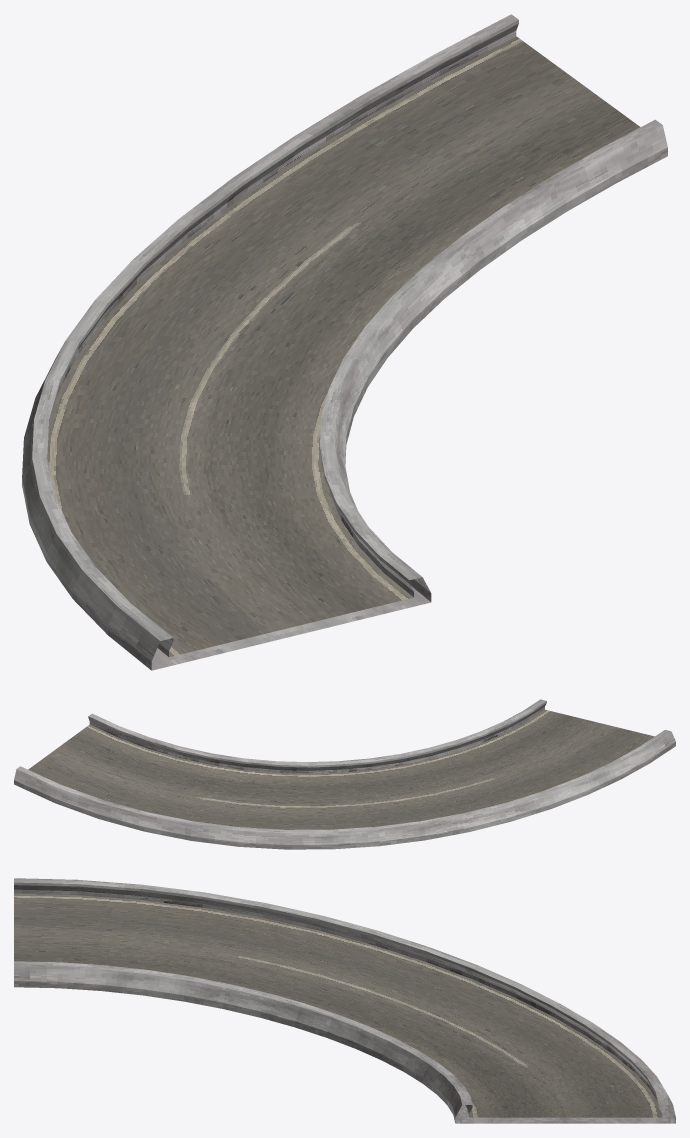
The model's file is turn-right3x3.glb.
3 renders of one model, top to bottom at view 1: azimuth 30°, elevation 25°; view 2: azimuth 150°, elevation 25°; view 3: azimuth 270°, elevation 25°, orthographic. The views are drawn at different scales.
Parts seen in each view (by area): view 1: road-Turn-Flat-BiSlopeUp-Up1-Right-Size3; view 2: road-Turn-Flat-BiSlopeUp-Up1-Right-Size3; view 3: road-Turn-Flat-BiSlopeUp-Up1-Right-Size3.
Part boxes in pixels (<box>): road-Turn-Flat-BiSlopeUp-Up1-Right-Size3: <box>22,14,667,670</box>; road-Turn-Flat-BiSlopeUp-Up1-Right-Size3: <box>14,699,675,849</box>; road-Turn-Flat-BiSlopeUp-Up1-Right-Size3: <box>14,878,675,1123</box>.
Bounding box in the file's own units: 3 × 0.3758 × 3.
2 materials, 2 textured.
